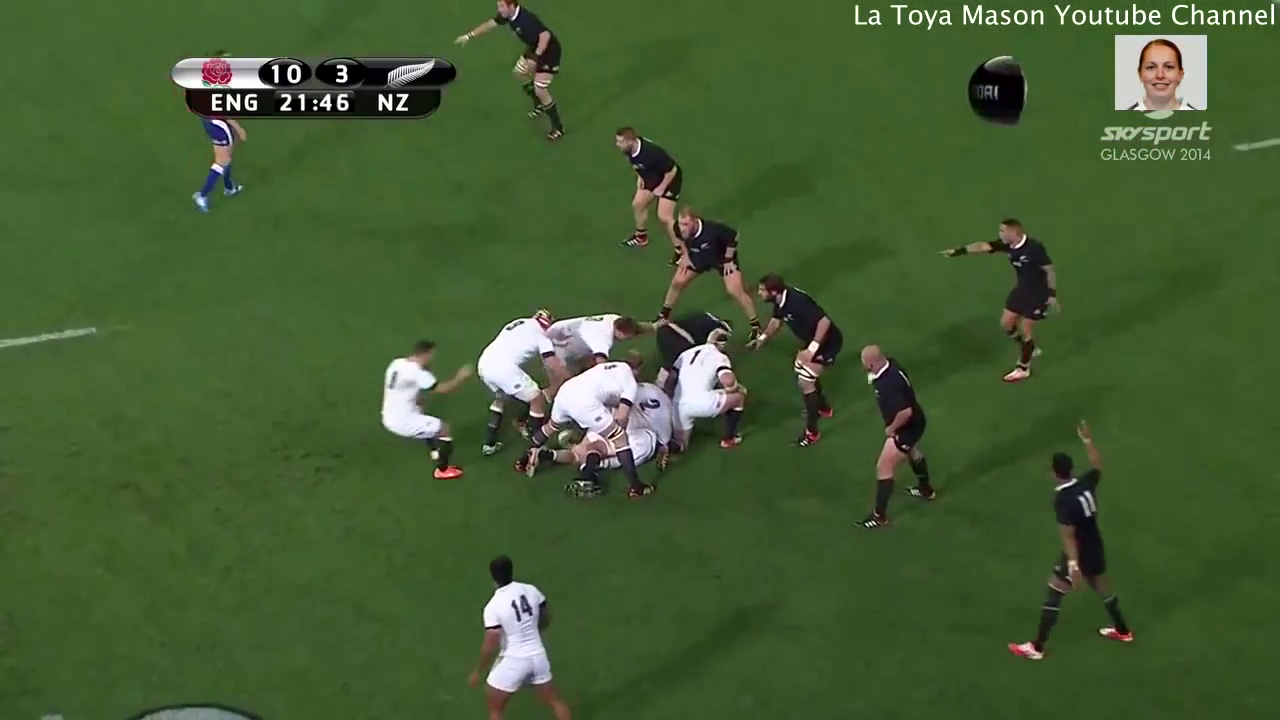player: (999, 413, 1134, 665), (928, 217, 1063, 380), (844, 331, 942, 538), (513, 346, 645, 499), (461, 548, 578, 720), (745, 264, 842, 452), (452, 1, 575, 144), (375, 338, 475, 485), (657, 207, 765, 341), (476, 304, 563, 461), (605, 120, 693, 268), (654, 331, 745, 472), (531, 308, 660, 366), (624, 308, 734, 357)
